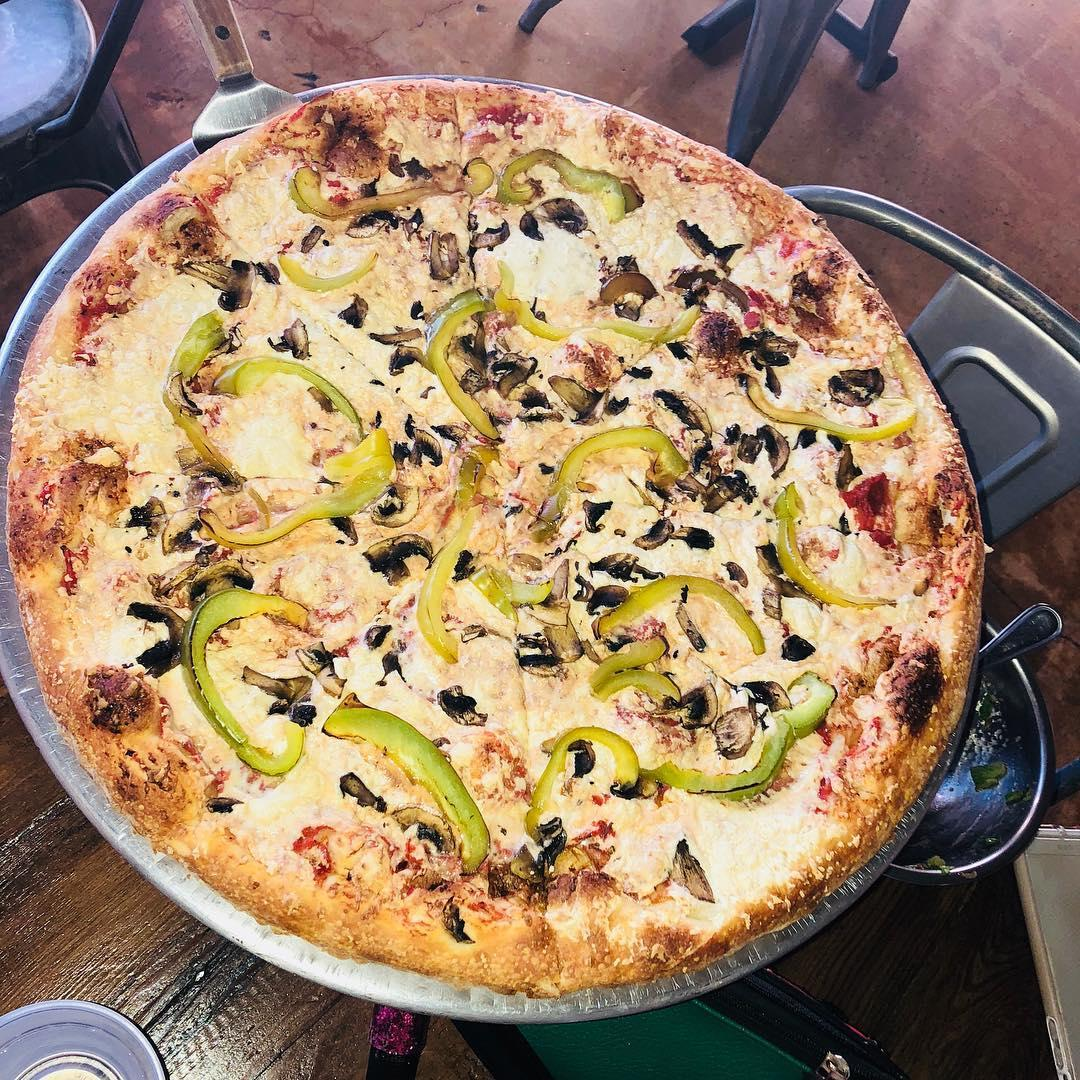Mushroom: (354, 528, 444, 591), (458, 326, 539, 396), (153, 549, 256, 602), (684, 443, 760, 514), (128, 595, 190, 680), (241, 666, 327, 727), (178, 252, 255, 311), (740, 318, 798, 396), (676, 214, 747, 276), (722, 416, 797, 474), (755, 541, 804, 627), (669, 264, 747, 316), (596, 259, 659, 319), (397, 800, 462, 858), (295, 638, 358, 697), (586, 540, 665, 583), (329, 766, 394, 818), (346, 203, 428, 244), (667, 837, 715, 907), (629, 515, 722, 551), (431, 681, 502, 728), (659, 386, 715, 442), (824, 429, 873, 493), (549, 366, 606, 421), (266, 311, 323, 366), (825, 361, 891, 408), (512, 622, 565, 680), (371, 479, 426, 531), (522, 198, 589, 239), (743, 666, 796, 716), (117, 494, 173, 540), (676, 673, 719, 732), (571, 571, 632, 612), (532, 817, 575, 871), (715, 699, 753, 758), (677, 595, 711, 660), (404, 414, 443, 470), (425, 225, 463, 282), (438, 902, 479, 948), (373, 643, 412, 691), (384, 151, 438, 181), (391, 333, 425, 378), (780, 629, 818, 669), (520, 386, 553, 432), (357, 614, 398, 651), (336, 291, 374, 330), (325, 511, 359, 554), (581, 494, 615, 536), (203, 788, 245, 822), (369, 319, 424, 344), (505, 546, 547, 578), (295, 220, 330, 257), (723, 556, 754, 596), (254, 251, 286, 289), (619, 356, 664, 382), (550, 555, 571, 607), (458, 613, 489, 648), (433, 416, 469, 445), (474, 220, 509, 249), (525, 291, 551, 327), (602, 388, 636, 414), (355, 172, 383, 199), (391, 440, 415, 470), (796, 423, 818, 452), (836, 510, 855, 541)
Peppers: (321, 699, 492, 868), (641, 672, 839, 813), (182, 588, 317, 784), (182, 455, 403, 554), (763, 480, 901, 615), (596, 571, 772, 657), (412, 282, 504, 442), (733, 373, 926, 449), (519, 725, 639, 845), (285, 155, 497, 222), (545, 422, 693, 509), (414, 512, 494, 668), (212, 351, 365, 427), (149, 378, 244, 500), (500, 144, 644, 219), (588, 630, 680, 710), (263, 243, 381, 299), (487, 268, 564, 345), (588, 306, 703, 350), (451, 433, 510, 514), (166, 306, 228, 377), (323, 426, 396, 479)
Pizza: (5, 77, 977, 986)
